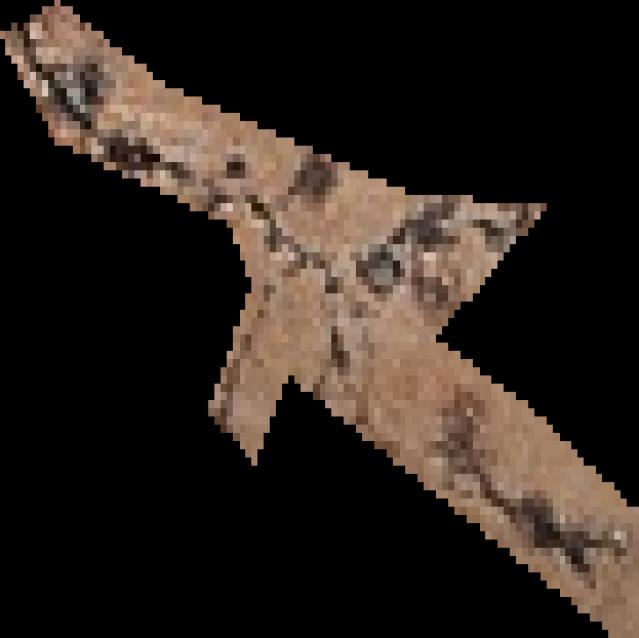Crack: (1, 0, 639, 638)
